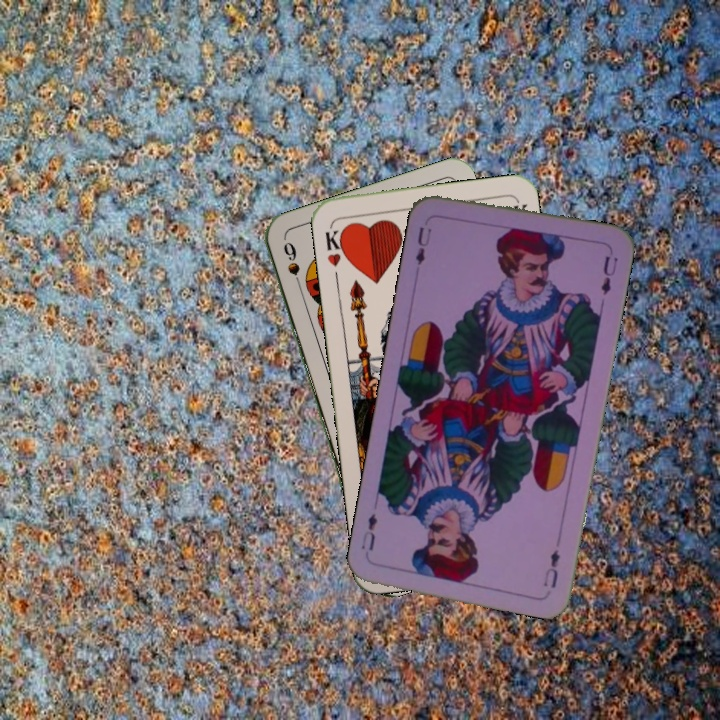EU: (539, 545, 563, 591), (411, 223, 435, 268)
HK: (321, 221, 350, 270)
S9: (279, 237, 306, 296)
